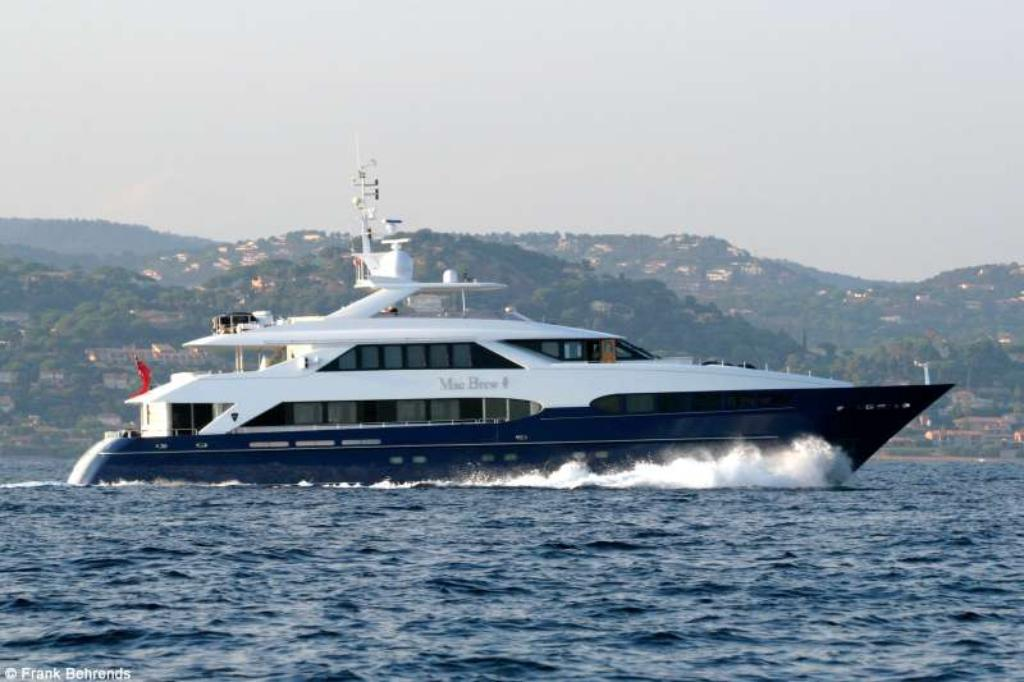PassengerShip: (60, 137, 960, 497)
